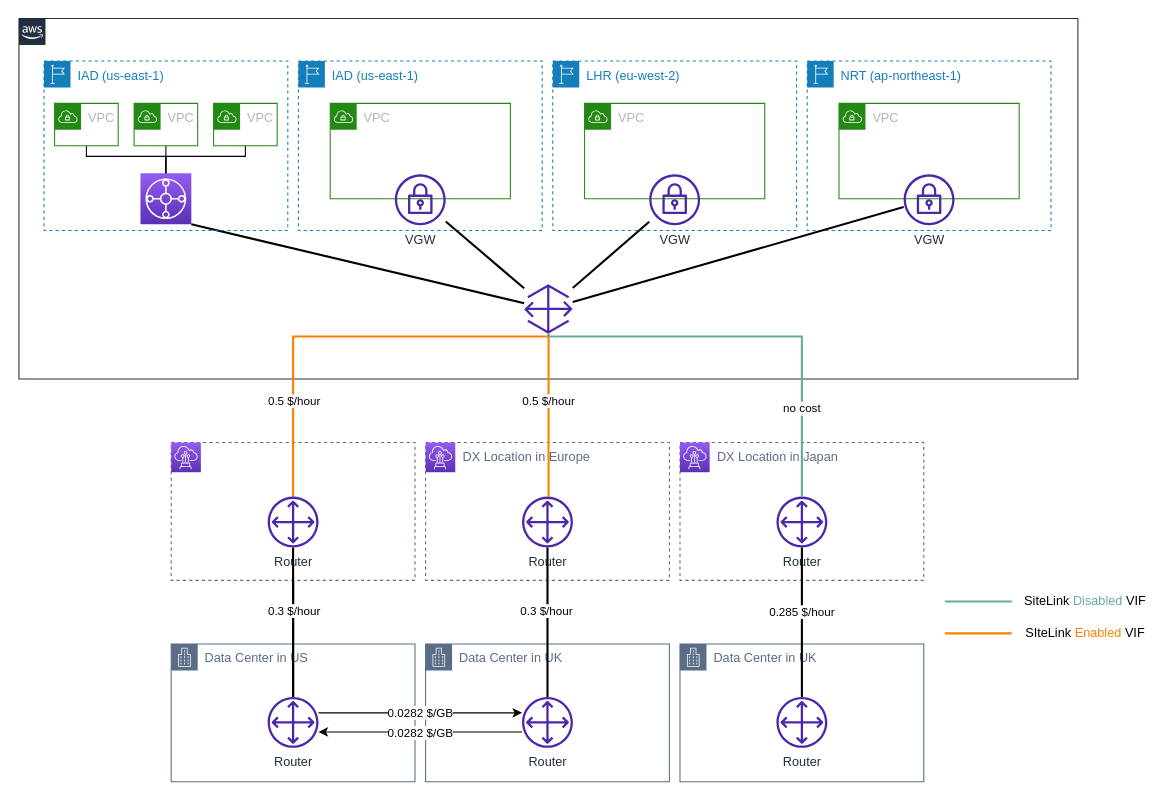
This 1172x800 diagram has some shape labels left out. Here are the shapes that lost their labels. From the top down, the box of each, then its label:
(139, 172, 191, 224): Transit Gateway
(18, 17, 1078, 379): AWS Cloud
(524, 283, 572, 334): DX Gateway
(170, 441, 415, 580): DX Location in US
